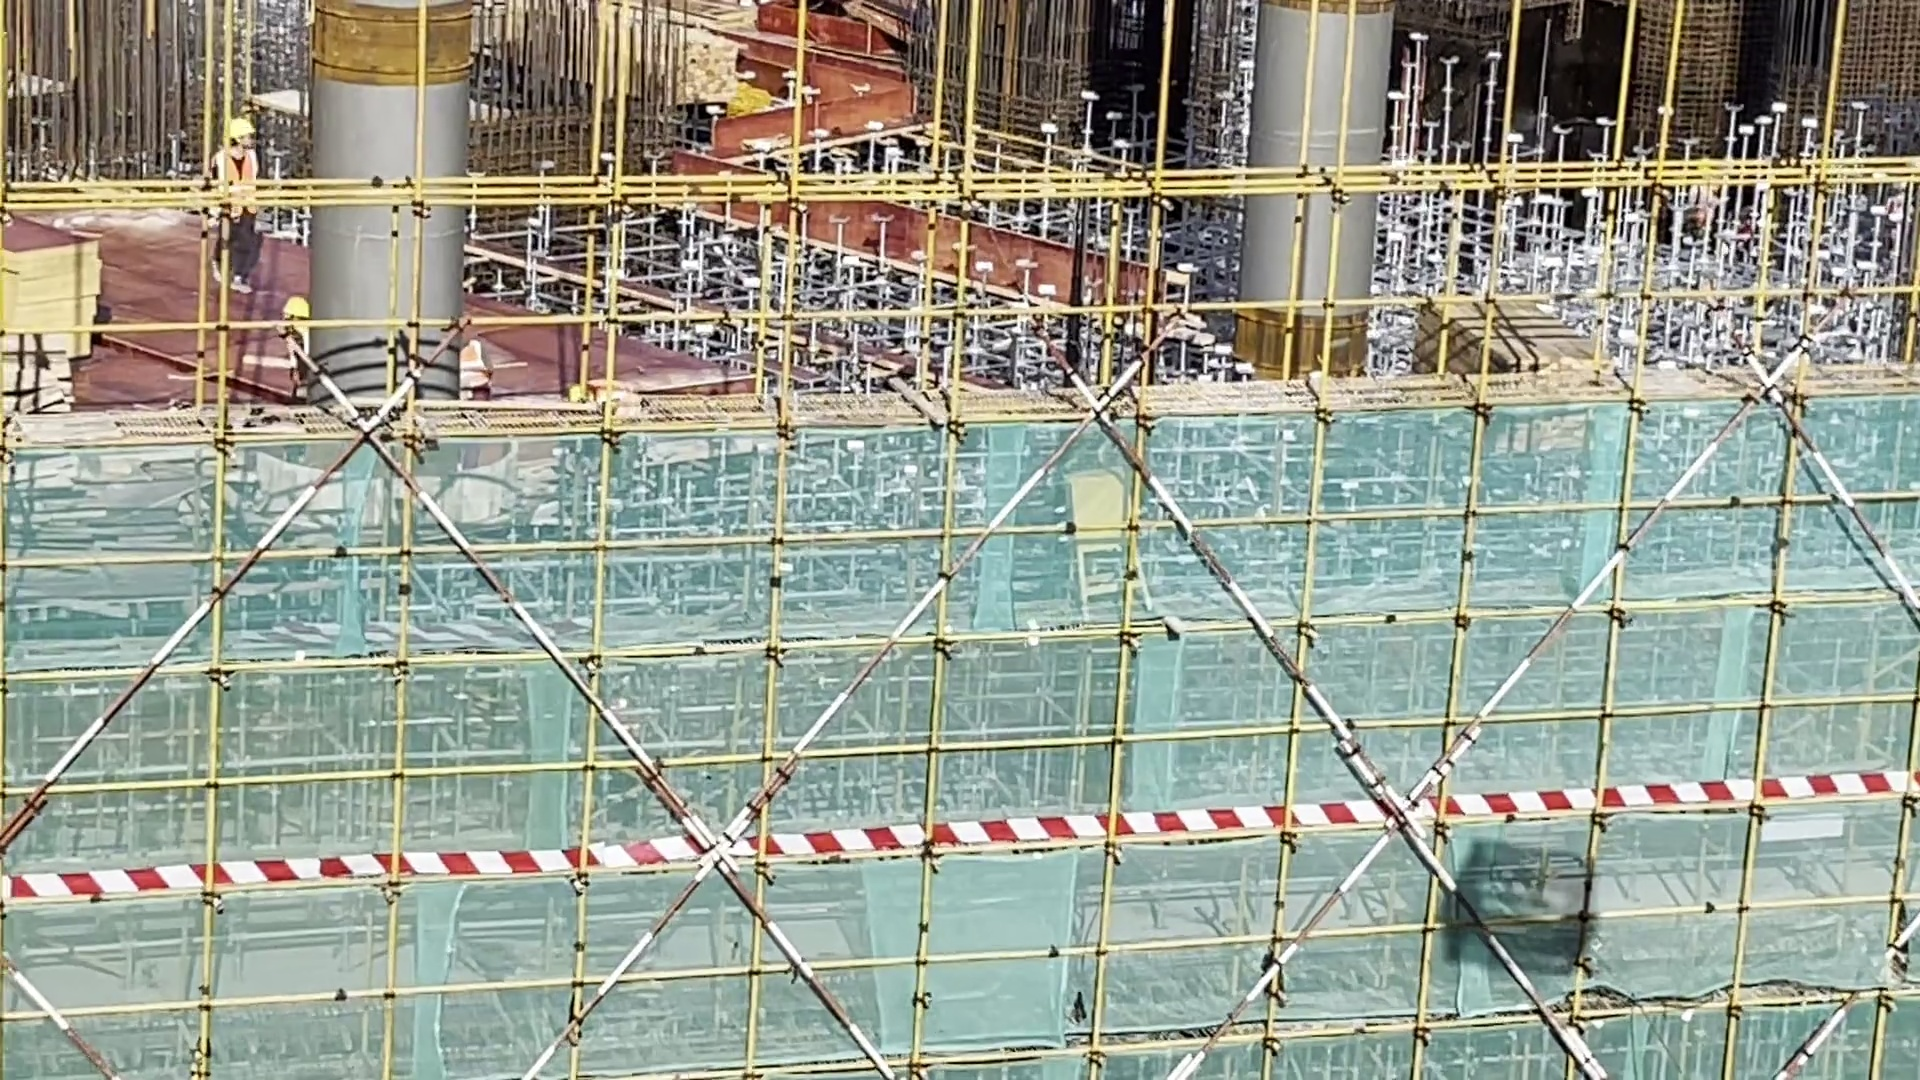board: (1, 205, 115, 397), (1411, 290, 1577, 399)
ebox: (1063, 457, 1158, 631)
helmet: (227, 115, 258, 157), (277, 298, 315, 320)
person: (215, 115, 270, 297), (272, 286, 331, 412), (450, 316, 497, 418)
vest: (216, 151, 266, 221)
